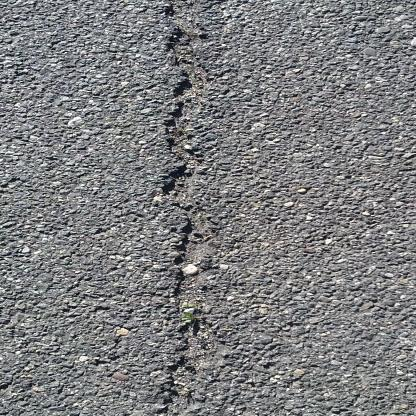Cracks: (138, 0, 268, 416)
